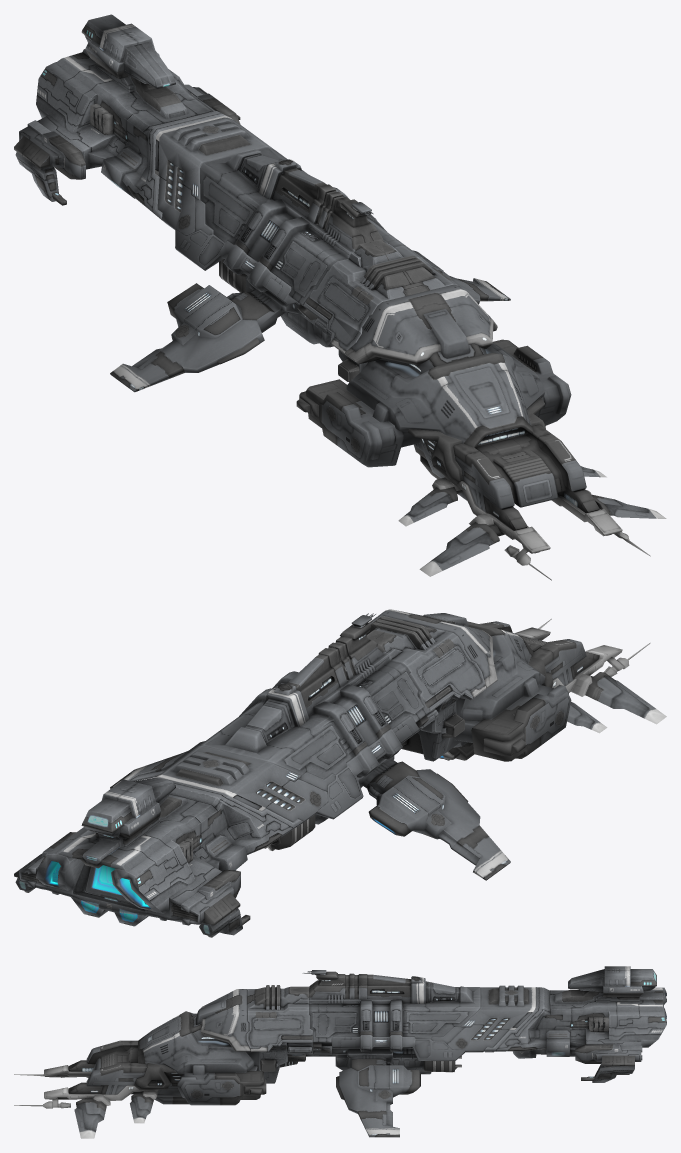
The model's file is 29984_Tengu3332_lite.glb.
3 renders of one model, top to bottom at view 1: azimuth 30°, elevation 25°; view 2: azimuth 150°, elevation 25°; view 3: azimuth 270°, elevation 25°, orthographic. The views are drawn at different scales.
Visible parts, largest first — view 1: csc1_t3_s1v3, csc1_t3_s4v2, csc1_t3_s3v3, csc1_t3_s2v3; view 2: csc1_t3_s4v2, csc1_t3_s1v3, csc1_t3_s3v3, csc1_t3_s2v3; view 3: csc1_t3_s1v3, csc1_t3_s4v2, csc1_t3_s3v3, csc1_t3_s2v3.
Part boxes in pixels (x1,y1,x2,y2): csc1_t3_s1v3: (296, 239, 666, 580); csc1_t3_s4v2: (14, 14, 240, 221); csc1_t3_s3v3: (110, 115, 510, 392); csc1_t3_s2v3: (200, 147, 406, 327); csc1_t3_s4v2: (14, 777, 302, 937); csc1_t3_s1v3: (366, 609, 666, 761); csc1_t3_s3v3: (110, 717, 510, 880); csc1_t3_s2v3: (200, 613, 429, 779); csc1_t3_s1v3: (14, 985, 312, 1138); csc1_t3_s4v2: (484, 966, 666, 1082); csc1_t3_s3v3: (331, 985, 535, 1137); csc1_t3_s2v3: (302, 970, 480, 1056).
Size of the model in its own units: 2.14 by 1.12 by 5.05.
Materials: 7 (7 with a texture image).
